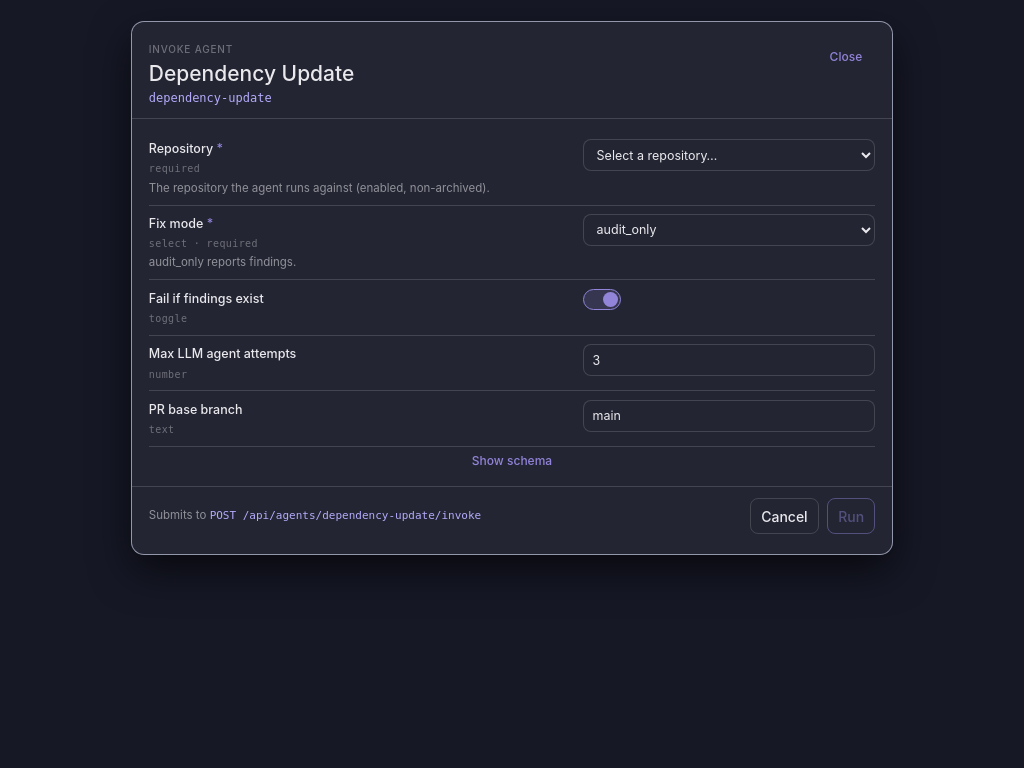
Test: InvokeDialog — error rendering › renders inline per-field errors for INVALID_PARAMS from the server
The image size is (1024, 768).
Select "acme/web" in the dropdown labelled "Repository *" at (729, 155), box [583, 139, 875, 171]
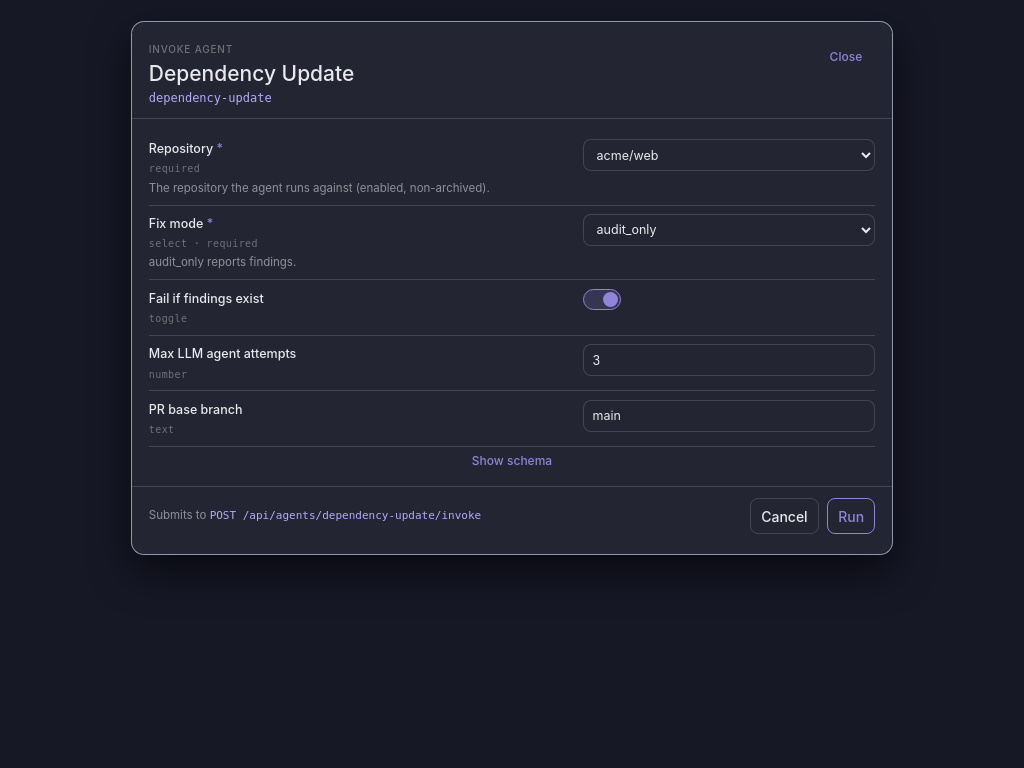
Click the button "Run" at (851, 516), box [827, 498, 875, 534]
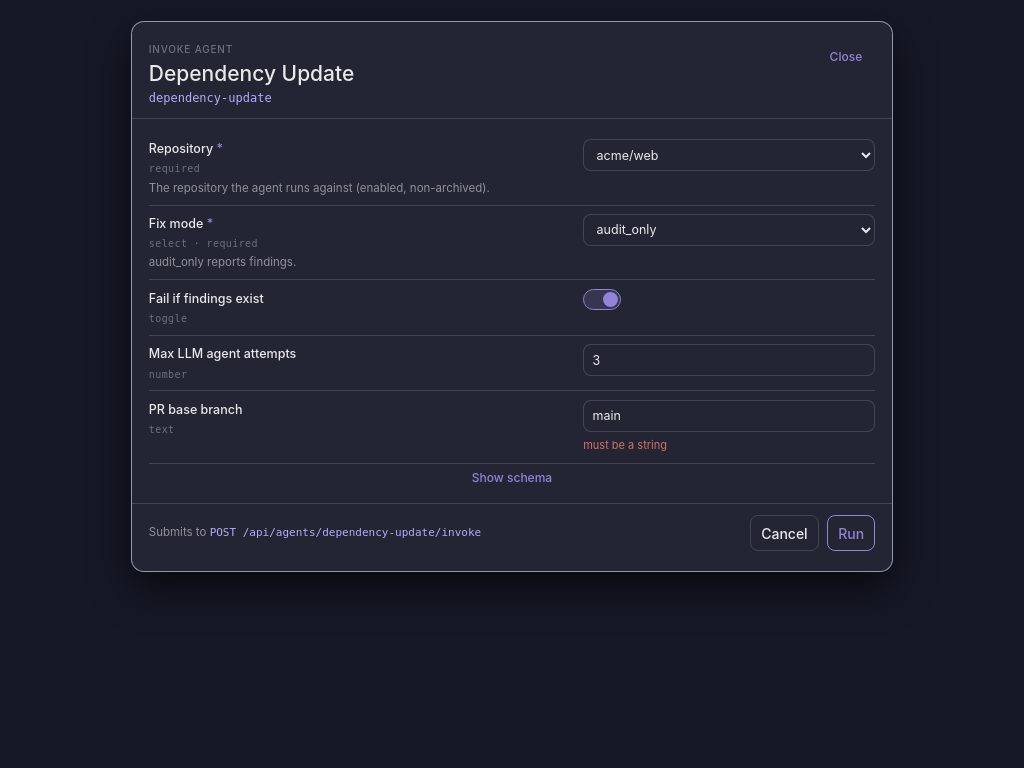
Now the text "must be a string" is shown, box [583, 438, 667, 452]
